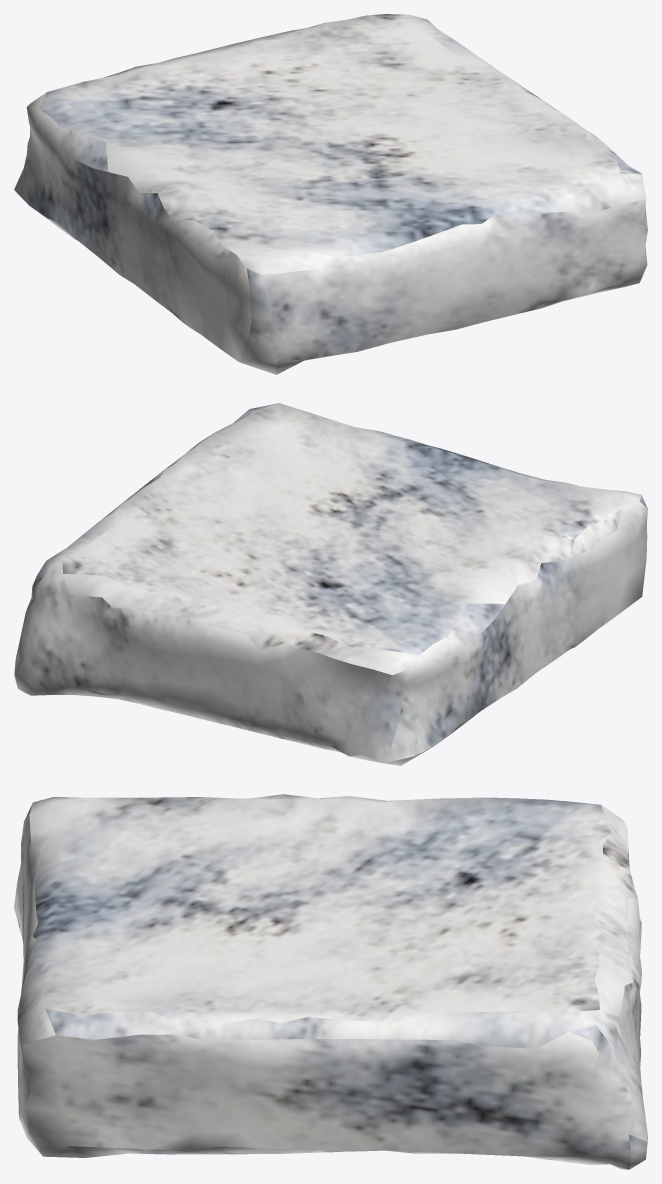
Rendered from plataforma_2.obj.
3 renders of one model, top to bottom at view 1: azimuth 30°, elevation 25°; view 2: azimuth 150°, elevation 25°; view 3: azimuth 270°, elevation 25°, orthographic. The views are drawn at different scales.
Parts seen in each view (by area): view 1: plataforma_2_Stone_A; view 2: plataforma_2_Stone_A; view 3: plataforma_2_Stone_A.
Part boxes in pixels (x1,y1,x2,y2): plataforma_2_Stone_A: [14, 14, 647, 374]; plataforma_2_Stone_A: [14, 403, 647, 765]; plataforma_2_Stone_A: [14, 794, 647, 1169].
Size of the model in its own units: 2.05 by 0.6026 by 2.26.
